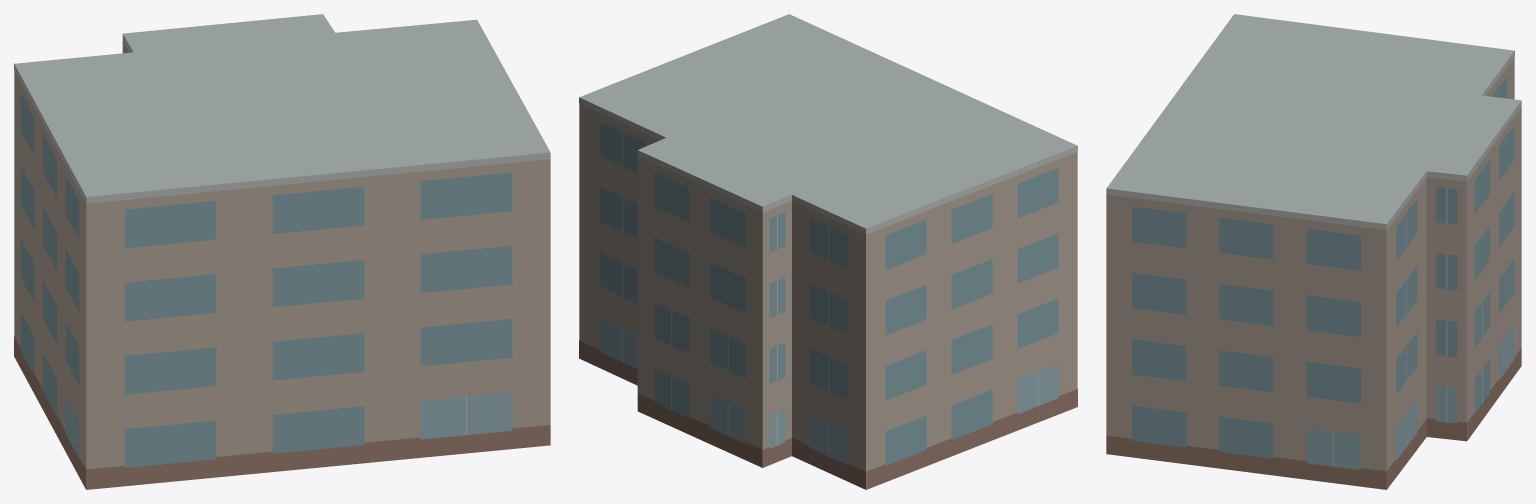
Rendered from survey-upis-33000116.glb.
3 views of the same model, side by side, from view 1: azimuth 30°, elevation 25°; view 2: azimuth 150°, elevation 25°; view 3: azimuth 270°, elevation 25° (orthographic). The views are drawn at different scales.
Visible parts, largest first — view 1: survey-upis-33000116.tmp; view 2: survey-upis-33000116.tmp; view 3: survey-upis-33000116.tmp.
Boxes of the visible parts, bbox=[...] form: survey-upis-33000116.tmp: bbox=[14, 14, 550, 489]; survey-upis-33000116.tmp: bbox=[579, 14, 1077, 489]; survey-upis-33000116.tmp: bbox=[1106, 14, 1521, 489].
Bounding box in the file's own units: 18.17 × 10.7 × 15.17.
